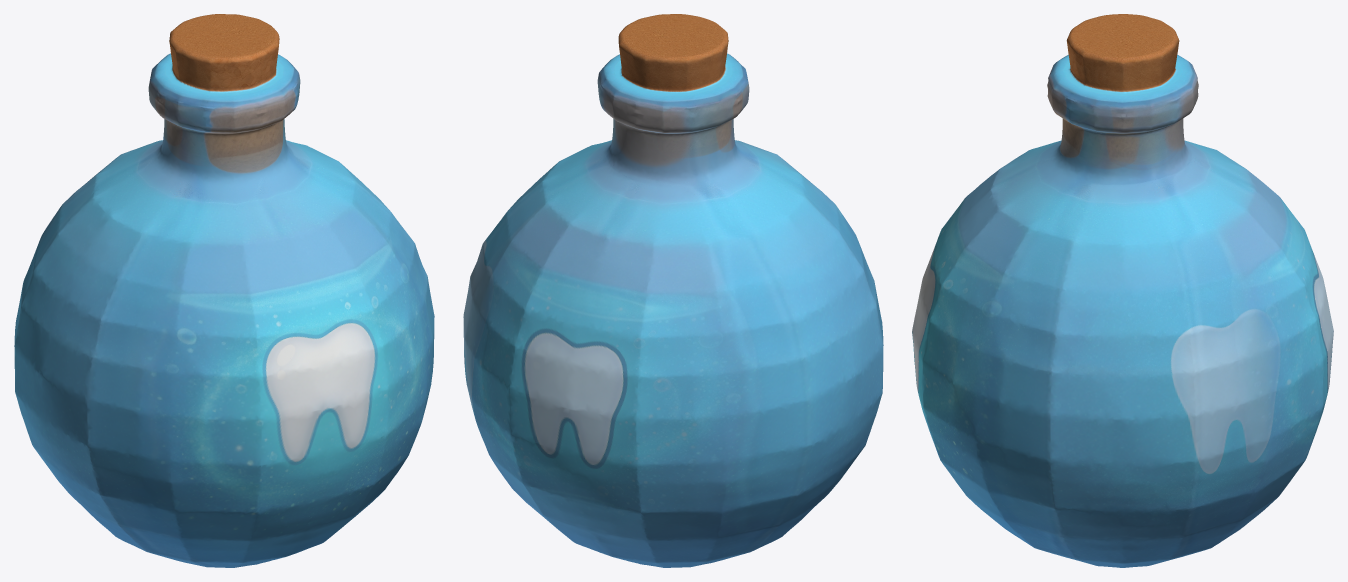
The model's file is mouthwash_blast.glb.
3 renders of one model, left to right at view 1: azimuth 30°, elevation 25°; view 2: azimuth 150°, elevation 25°; view 3: azimuth 270°, elevation 25°, orthographic.
Parts seen in each view (by area): view 1: mesh_node; view 2: mesh_node; view 3: mesh_node.
Part boxes in pixels (<box>): mesh_node: <box>14,14,434,567</box>; mesh_node: <box>463,14,883,567</box>; mesh_node: <box>912,14,1333,567</box>.
Bounding box in the file's own units: 1.41 × 1.9 × 1.41.
1 material, 1 textured.
